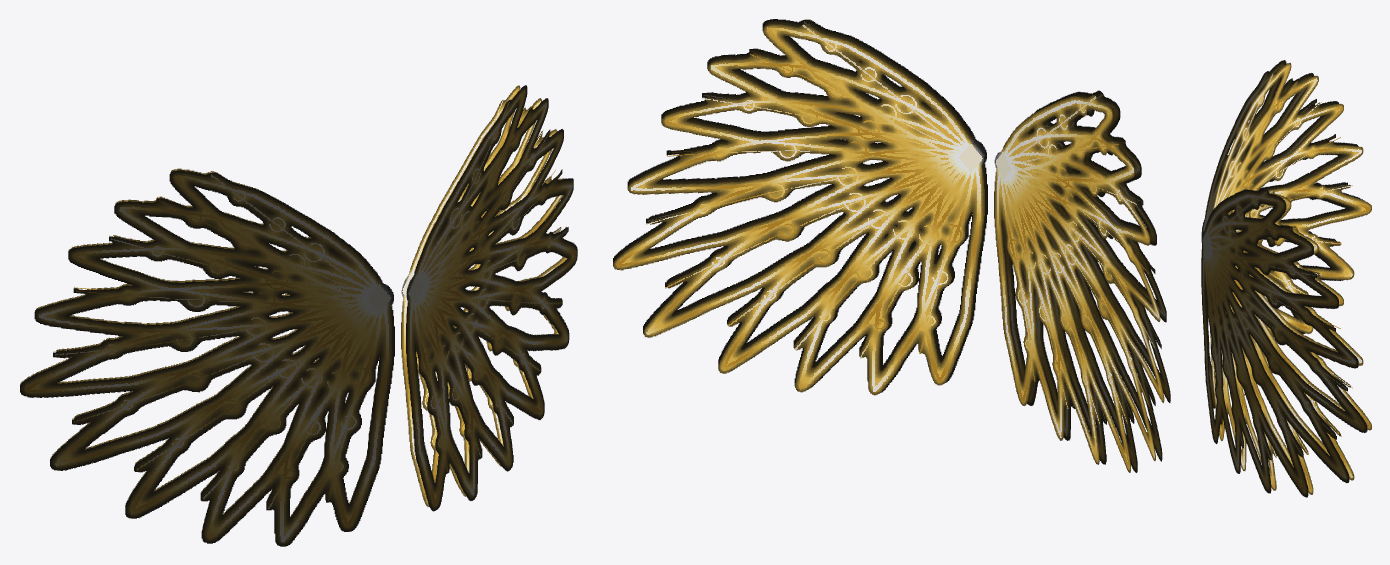
File: gold_filigree_wings.glb
3 views of the same model, side by side, from view 1: azimuth 30°, elevation 25°; view 2: azimuth 150°, elevation 25°; view 3: azimuth 270°, elevation 25° (orthographic). The views are drawn at different scales.
Visible parts, largest first — view 1: Gold Filigree Wings Wing Right, Gold Filigree Wings Wing Left; view 2: Gold Filigree Wings Wing Left, Gold Filigree Wings Wing Right; view 3: Gold Filigree Wings Wing Left, Gold Filigree Wings Wing Right.
Boxes of the visible parts, x1,y1,x2,y2 form: Gold Filigree Wings Wing Right: (20, 168, 394, 546); Gold Filigree Wings Wing Left: (401, 85, 577, 511); Gold Filigree Wings Wing Left: (613, 19, 987, 395); Gold Filigree Wings Wing Right: (994, 90, 1170, 472); Gold Filigree Wings Wing Left: (1201, 188, 1371, 497); Gold Filigree Wings Wing Right: (1201, 60, 1371, 408).
Bounding box in the file's own units: 2 × 1.3 × 0.6618.
2 materials, 2 textured.
